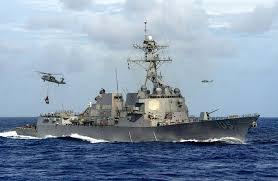maybay_muctieu: (35, 66, 66, 87), (202, 76, 218, 86)
tau_muctieu: (27, 54, 252, 147)
